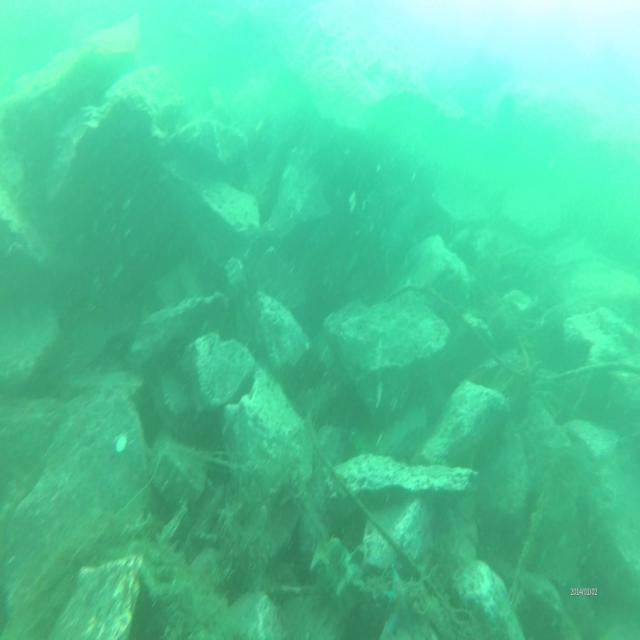starfish: (377, 570, 422, 638)
